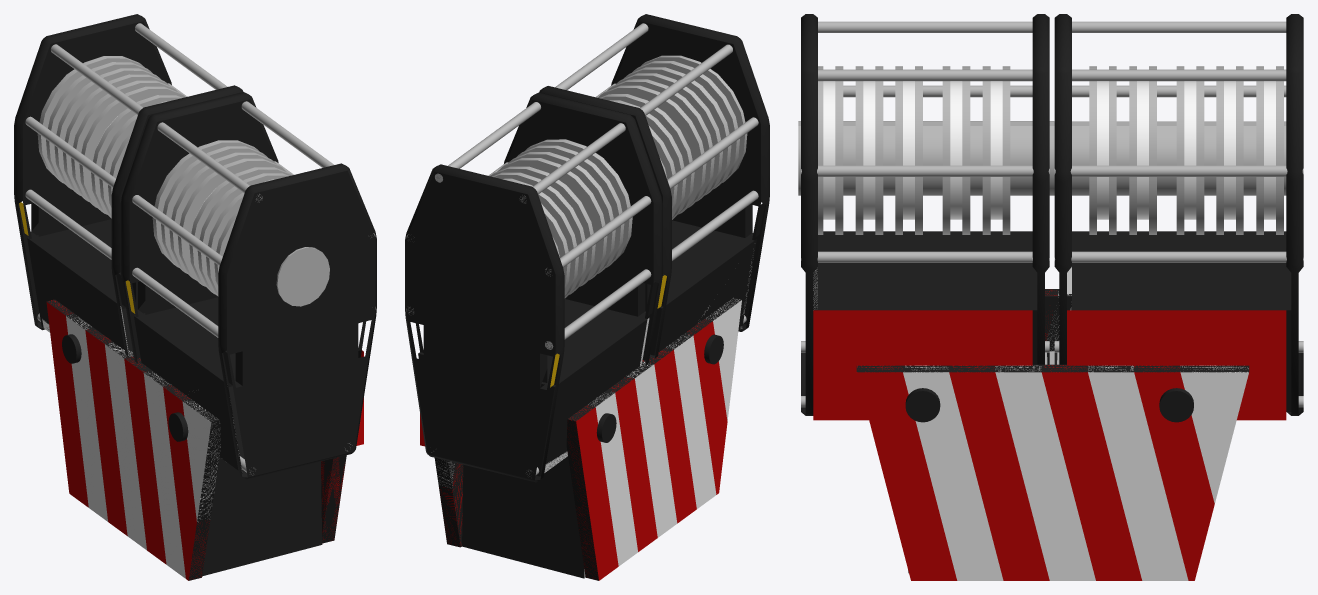
The model's file is hookblock.dae.
The picture shows the model from 3 angles, left to right: view 1: azimuth 30°, elevation 25°; view 2: azimuth 150°, elevation 25°; view 3: azimuth 270°, elevation 25°; orthographic projection. The views are drawn at different scales.
Visible parts, largest first — view 1: group_2 (×4), group_0 (×14), group_4 (×5), Group_185 (×15), group_3 (×4), group_5 (×4), group_1; view 2: group_4 (×4), group_0 (×14), Group_185 (×17), group_2 (×3), group_5 (×4), group_3 (×4); view 3: group_0 (×10), group_2 (×4), group_4 (×4), Group_185 (×30), group_3 (×5), group_5 (×5), group_1.
Boxes of the visible parts, x1,y1,x2,y2 form: group_2 (×4): (120,92,376,479); group_0 (×14): (46,301,346,580); group_4 (×5): (14,14,243,356); Group_185 (×15): (37,56,292,296); group_3 (×4): (132,101,333,337); group_5 (×4): (25,23,227,259); group_1: (276,247,329,306); group_4 (×4): (405,92,662,482); group_0 (×14): (434,300,741,580); Group_185 (×17): (490,55,747,298); group_2 (×3): (539,14,769,358); group_5 (×4): (435,102,651,349); group_3 (×4): (555,23,758,260); group_0 (×10): (856,372,1248,580); group_2 (×4): (801,14,1049,420); group_4 (×4): (1054,14,1303,420); Group_185 (×30): (818,66,1283,234); group_3 (×5): (801,21,1049,262); group_5 (×5): (1054,21,1303,262); group_1: (798,121,1286,195).
Bounding box in the file's own units: 37.98 × 86.02 × 93.38.
